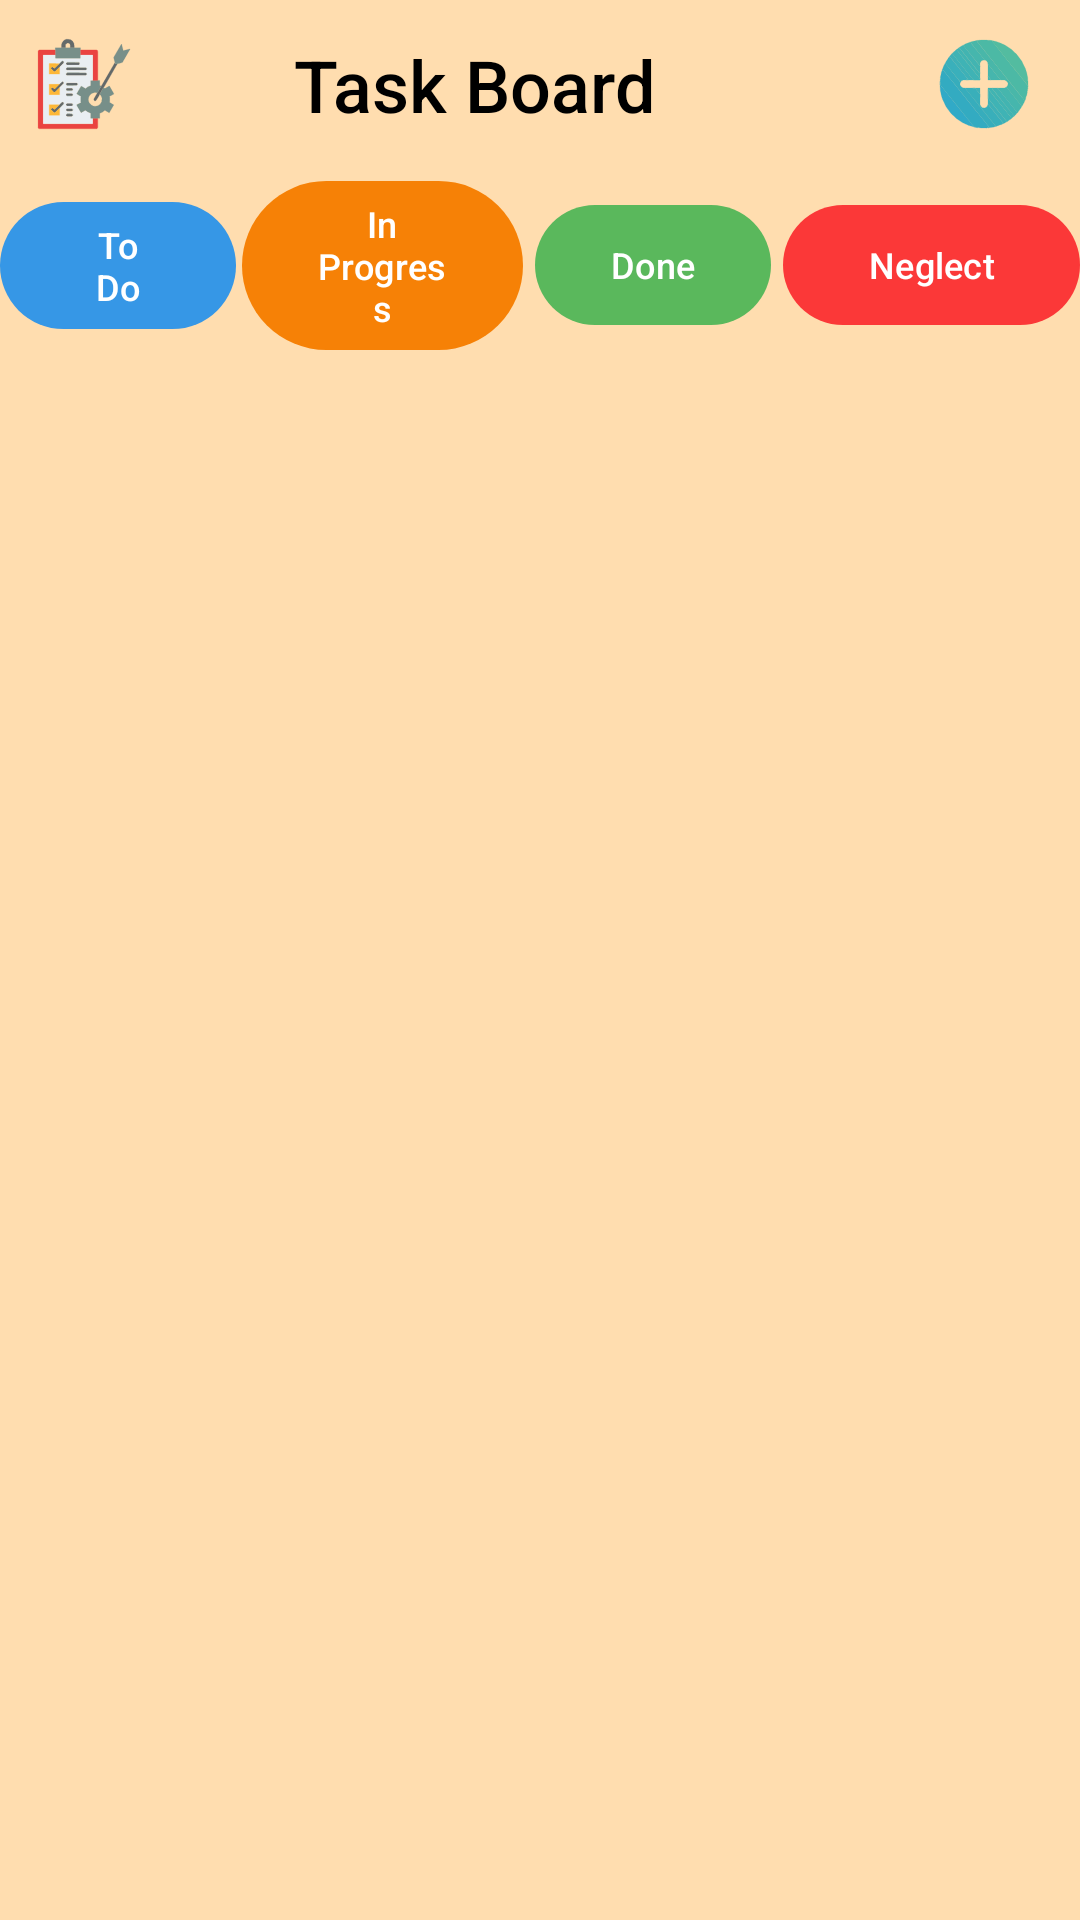

Icon bounding boxes for this 1080px×1920px phone screenshot, format {"x1": x1, "y1": y1, "x2": x2, "y2": y2}:
Add: {"x1": 939, "y1": 40, "x2": 1029, "y2": 129}
